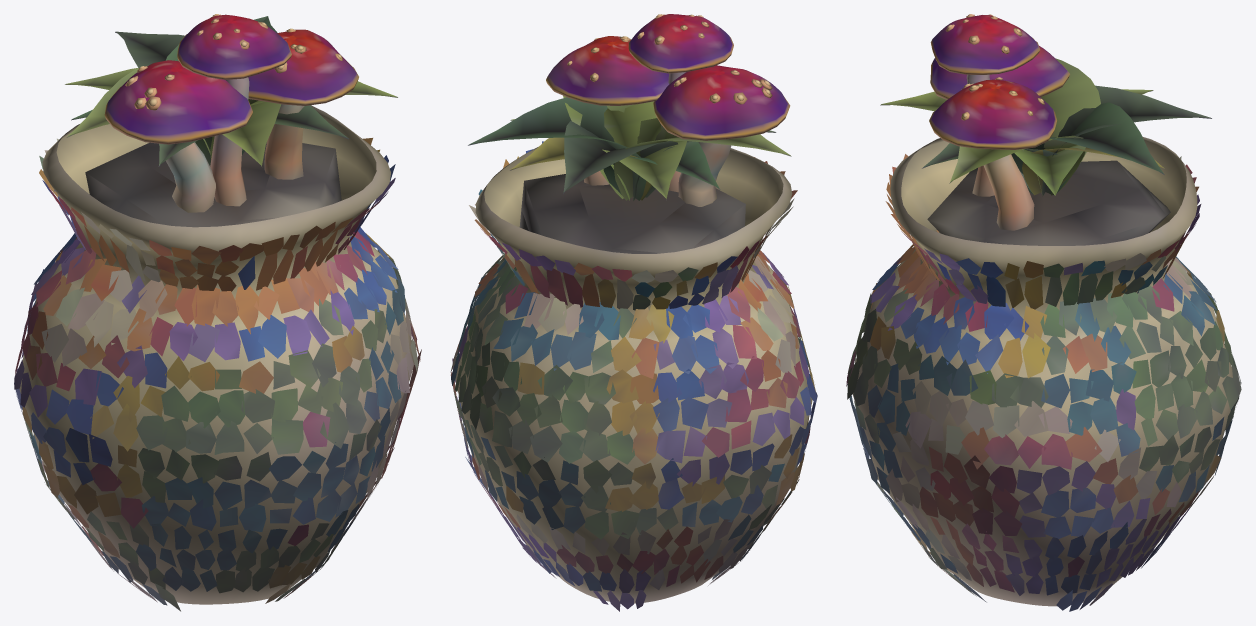
File: mozaik_saksi.glb
3 views of the same model, side by side, from view 1: azimuth 30°, elevation 25°; view 2: azimuth 150°, elevation 25°; view 3: azimuth 270°, elevation 25° (orthographic). The views are drawn at different scales.
Parts seen in each view (by area): view 1: mozaik_saksi_LOD0; view 2: mozaik_saksi_LOD0; view 3: mozaik_saksi_LOD0.
Boxes of the visible parts, left/top/right/bottom form: mozaik_saksi_LOD0: left=14, top=14, right=421, bottom=611; mozaik_saksi_LOD0: left=450, top=14, right=817, bottom=611; mozaik_saksi_LOD0: left=846, top=14, right=1241, bottom=611.
Size of what is drawn, in the model's own units: 0.7211 by 1.12 by 0.7207.
